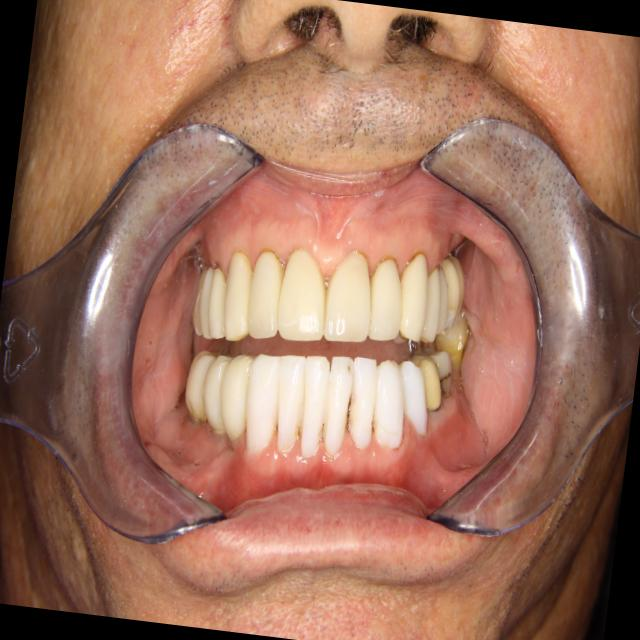tooth: (271, 240, 337, 347), (318, 245, 380, 348), (234, 348, 288, 464), (362, 347, 416, 457), (289, 347, 337, 468), (266, 347, 314, 465), (242, 242, 295, 344), (358, 251, 411, 349), (316, 349, 361, 464), (389, 246, 438, 348), (339, 348, 385, 456), (210, 346, 260, 445), (388, 349, 440, 442), (216, 241, 262, 346), (195, 345, 237, 442), (431, 247, 473, 335), (176, 343, 218, 426), (403, 348, 451, 417), (430, 309, 474, 379), (203, 258, 237, 342), (415, 263, 448, 346), (194, 259, 223, 343), (429, 262, 456, 337), (424, 347, 459, 402), (187, 265, 212, 341)
